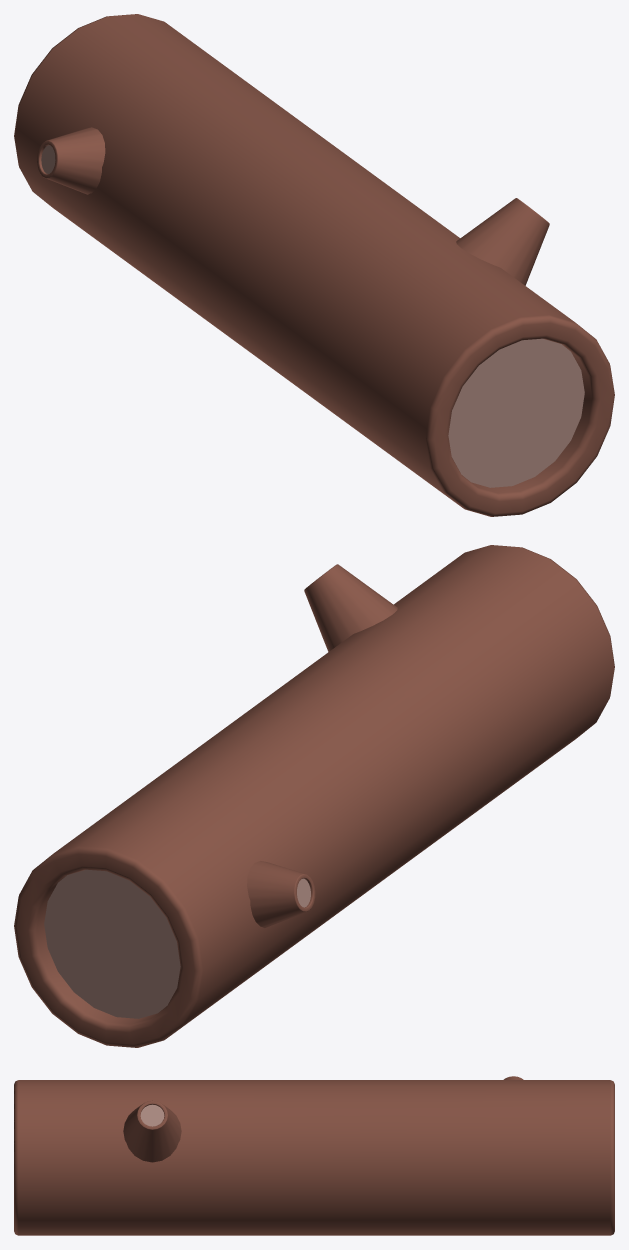
Rendered from Farm_17_Log_2.glb.
3 views of the same model, one above another, from view 1: azimuth 30°, elevation 25°; view 2: azimuth 150°, elevation 25°; view 3: azimuth 270°, elevation 25° (orthographic). The views are drawn at different scales.
Parts seen in each view (by area): view 1: Farm_17_Log_2; view 2: Farm_17_Log_2; view 3: Farm_17_Log_2.
Part boxes in pixels (x1,y1,x2,y2): Farm_17_Log_2: [14, 14, 614, 516]; Farm_17_Log_2: [14, 545, 614, 1047]; Farm_17_Log_2: [14, 1076, 614, 1235].
Bounding box in the file's own units: 0.6318 × 0.5344 × 1.81.
Materials: 1 (1 with a texture image).
